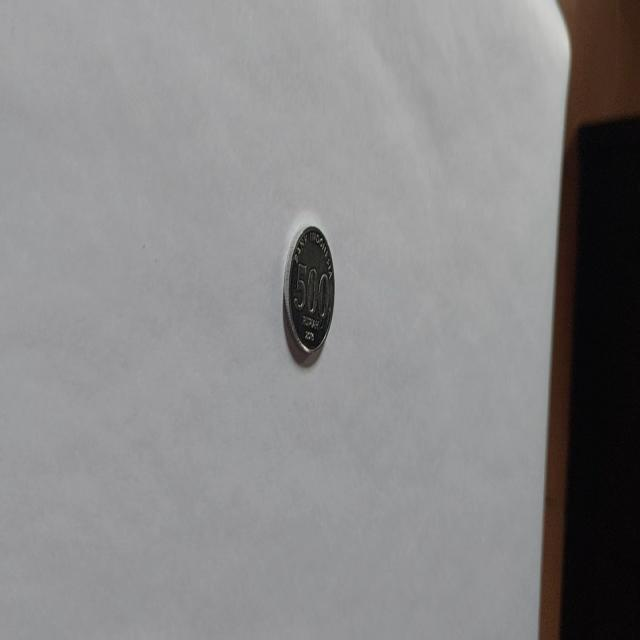lima ratus rupiah: (282, 223, 336, 365)
